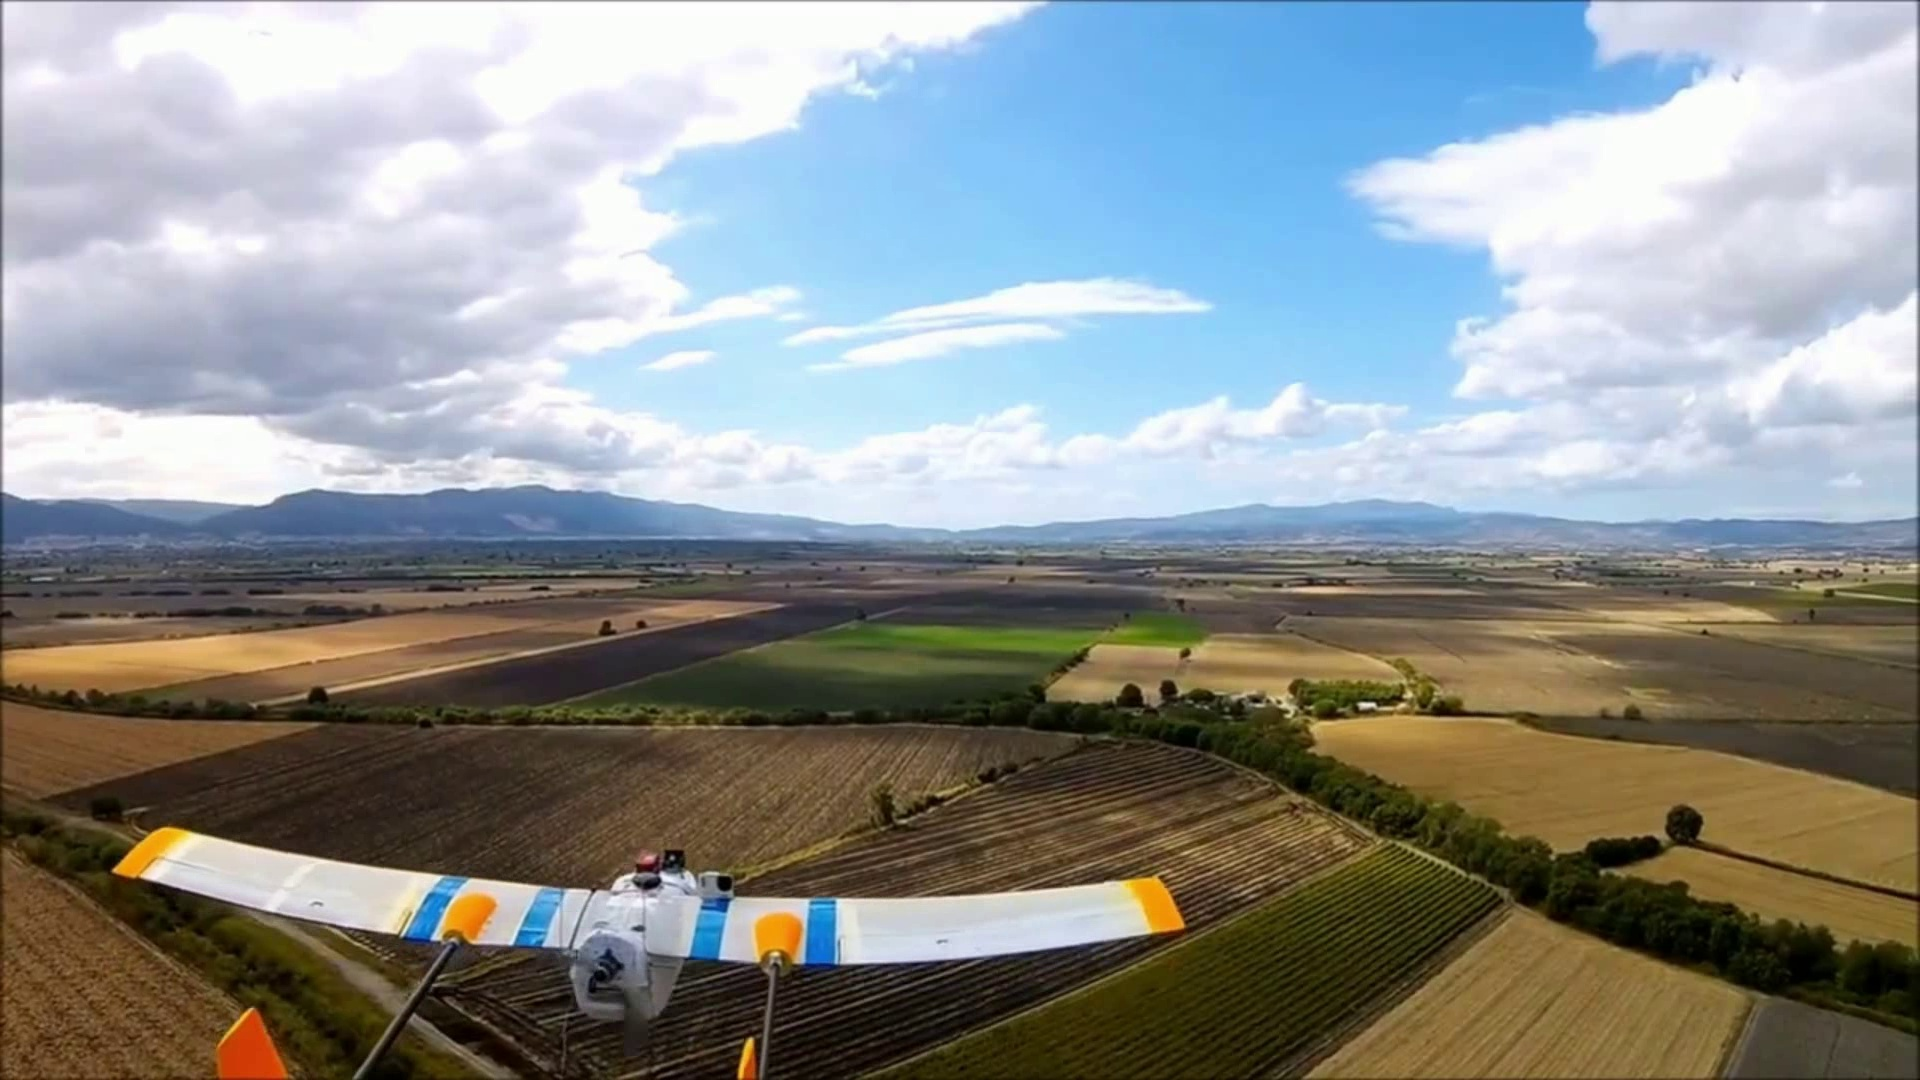airplane: (109, 825, 1183, 1025)
